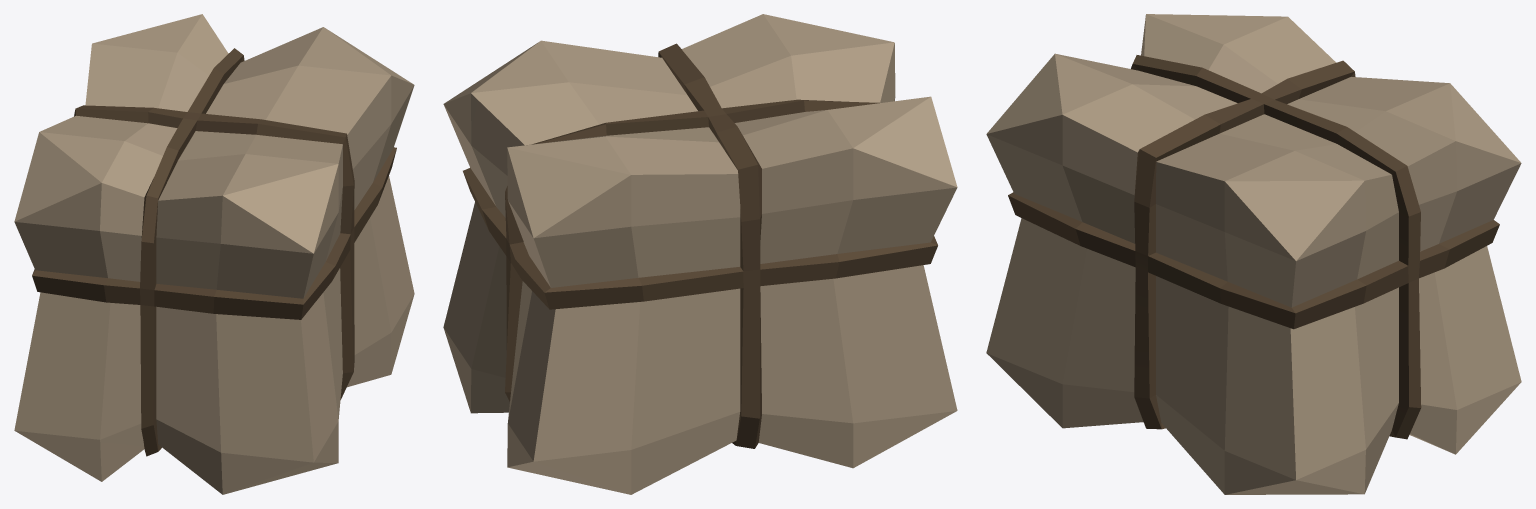
File: Sacco_Quadrato.fbx
3 renders of one model, left to right at view 1: azimuth 30°, elevation 25°; view 2: azimuth 150°, elevation 25°; view 3: azimuth 270°, elevation 25°, orthographic. The views are drawn at different scales.
Visible parts, largest first — view 1: Sacco_Quadrato; view 2: Sacco_Quadrato; view 3: Sacco_Quadrato.
Boxes of the visible parts, x1,y1,x2,y2 form: Sacco_Quadrato: [14, 14, 414, 494]; Sacco_Quadrato: [443, 14, 957, 494]; Sacco_Quadrato: [986, 14, 1521, 494].
Bounding box in the file's own units: 69.14 × 44.88 × 69.43.
Materials: 1 (1 with a texture image).
